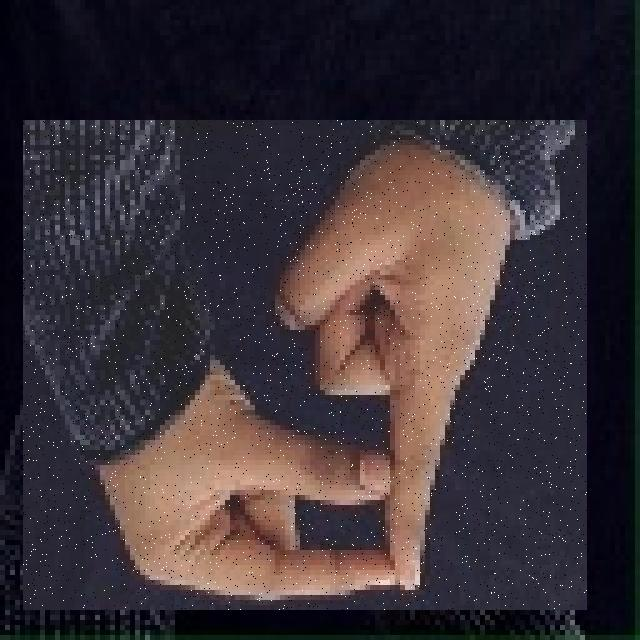P: (23, 120, 587, 610)
